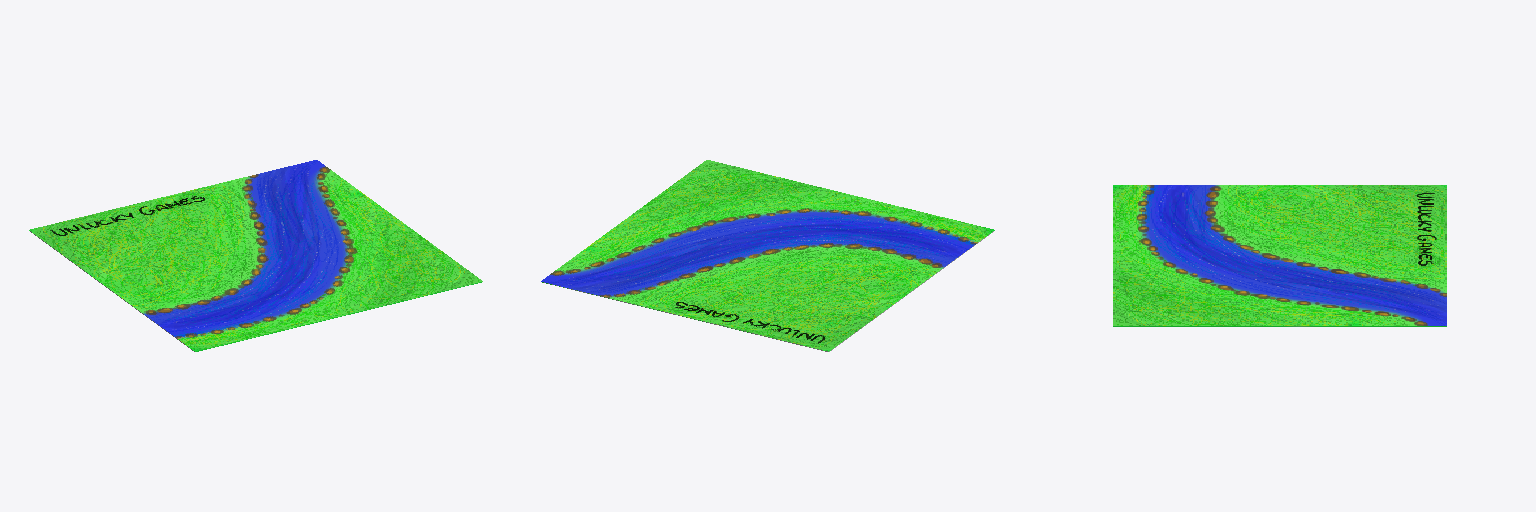
The picture shows the model from 3 angles: view 1: azimuth 30°, elevation 25°; view 2: azimuth 150°, elevation 25°; view 3: azimuth 270°, elevation 25°; orthographic projection.
Parts seen in each view (by area): view 1: Cube_Cube.001; view 2: Cube_Cube.001; view 3: Cube_Cube.001.
Boxes of the visible parts, x1,y1,x2,y2 form: Cube_Cube.001: [29, 160, 482, 351]; Cube_Cube.001: [541, 160, 994, 351]; Cube_Cube.001: [1113, 185, 1446, 326].
Bounding box in the file's own units: 100 × 0.2 × 100.
Materials: 1 (1 with a texture image).